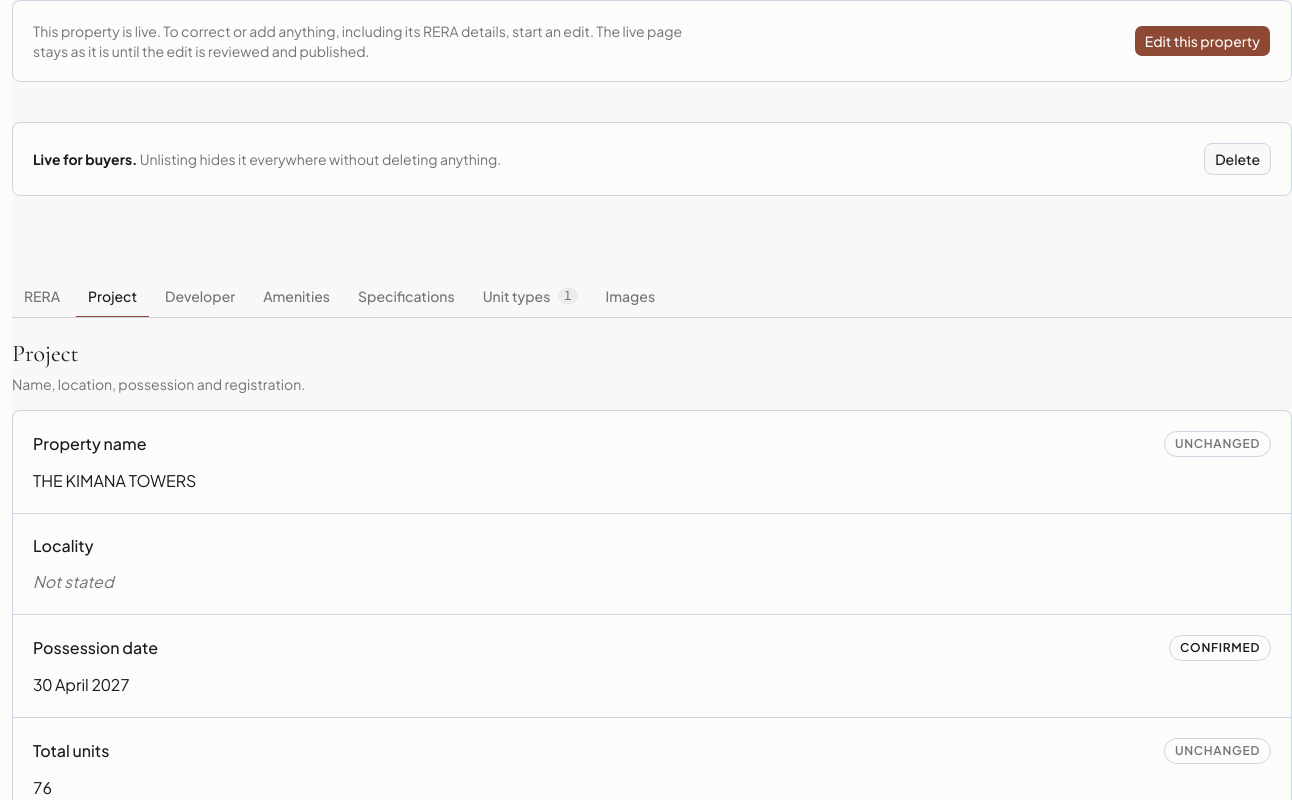
Test: starting an edit of a published property › says so when it could not start, and stays put
This screenshot has width=1292, height=800.
Click the button "Edit this property": (1202, 41) [1134, 25, 1271, 57]
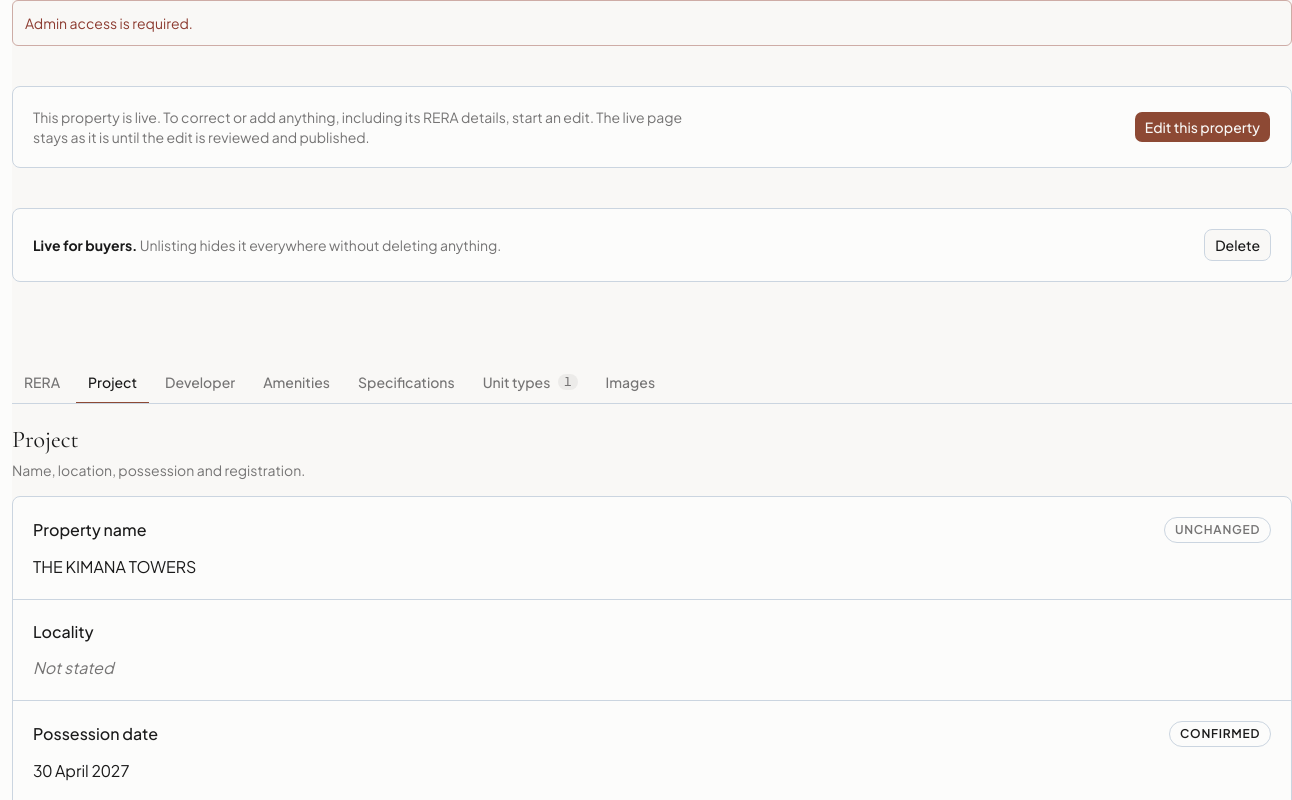
Expected: the message reads "Admin access is required.", [25, 14, 193, 32]
